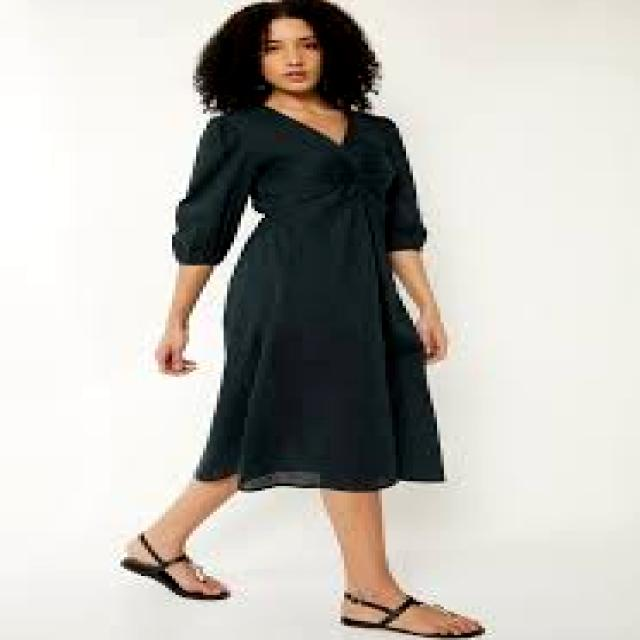dress: (173, 105, 443, 490)
foot-wear: (121, 534, 230, 599), (341, 593, 485, 637)
